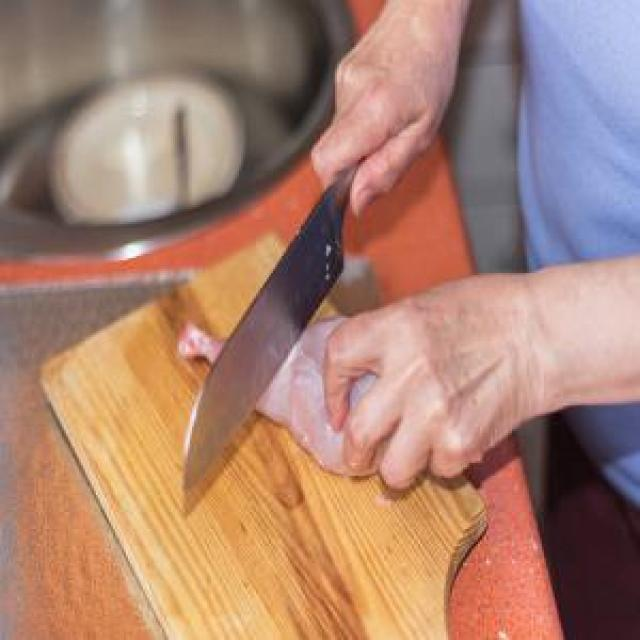knife: (182, 150, 372, 500)
